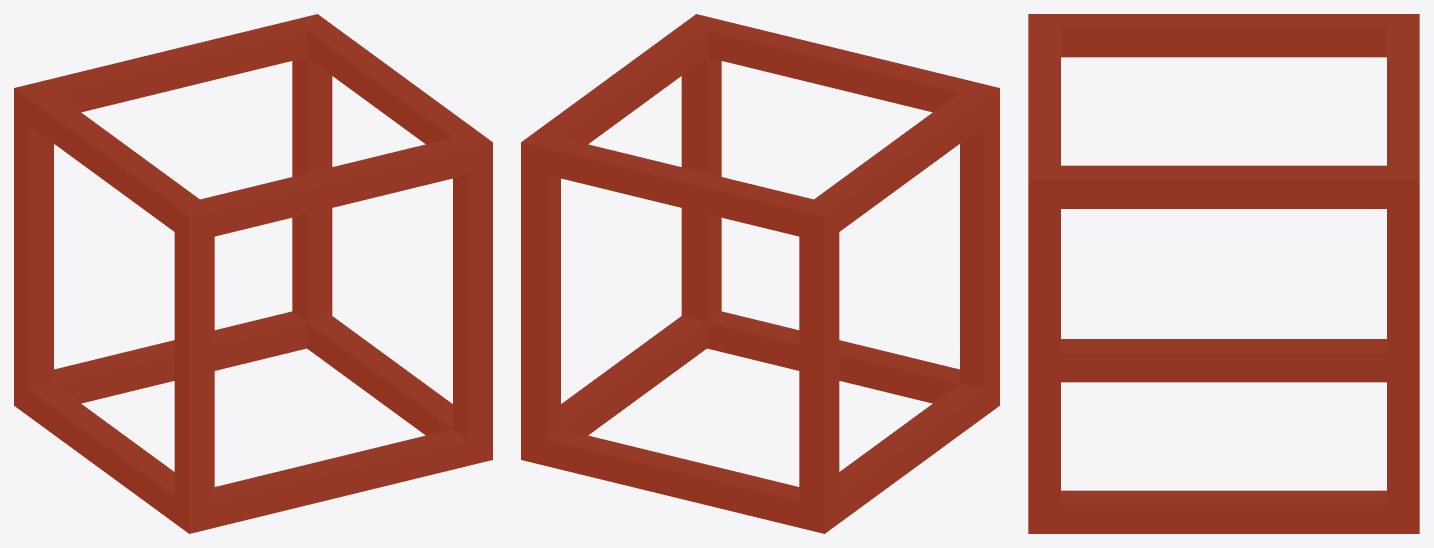
Rendered from remove_cursor.glb.
3 views of the same model, side by side, from view 1: azimuth 30°, elevation 25°; view 2: azimuth 150°, elevation 25°; view 3: azimuth 270°, elevation 25° (orthographic). The views are drawn at different scales.
Parts seen in each view (by area): view 1: Cube.001; view 2: Cube.001; view 3: Cube.001.
Part boxes in pixels (x1,y1,x2,y2): Cube.001: (14, 14, 492, 533); Cube.001: (521, 14, 999, 533); Cube.001: (1028, 14, 1419, 533).
Bounding box in the file's own units: 1.2 × 1.2 × 1.2.
